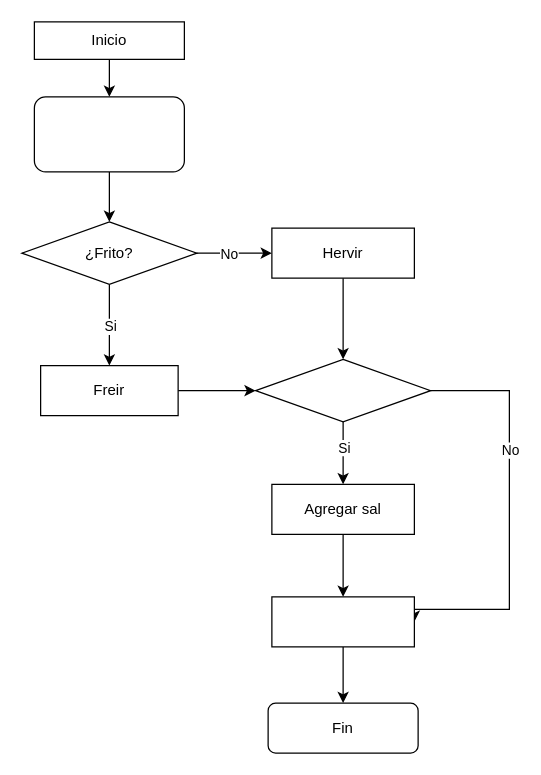
This 541x775 diagram has some shape labels left out. The centre of each missing label's shape, as x and y in pixels:
"Cocinar un huevo" goes at point (108, 134).
"Servirlo en el plato" goes at point (342, 621).
"¿Salado?" goes at point (342, 390).
